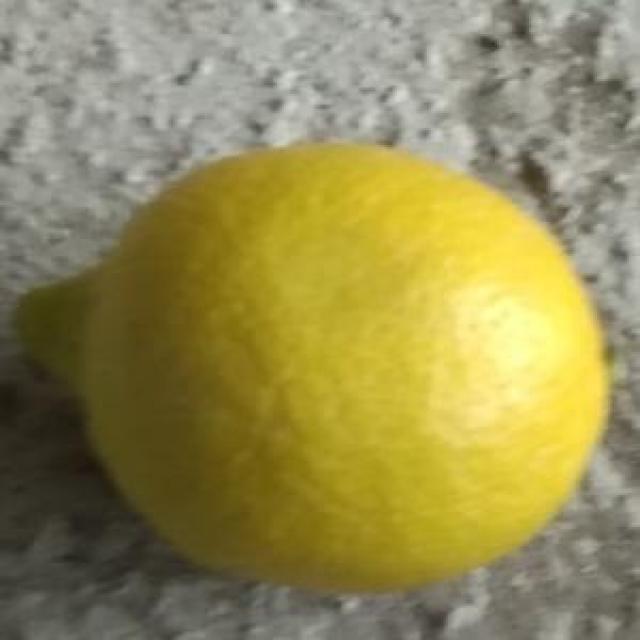lemon: (12, 142, 610, 590)
